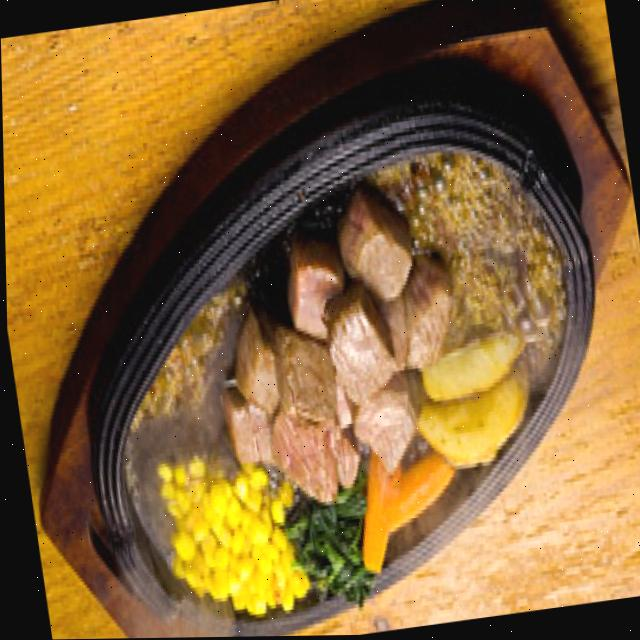牛肉菜式: (182, 169, 486, 529)
